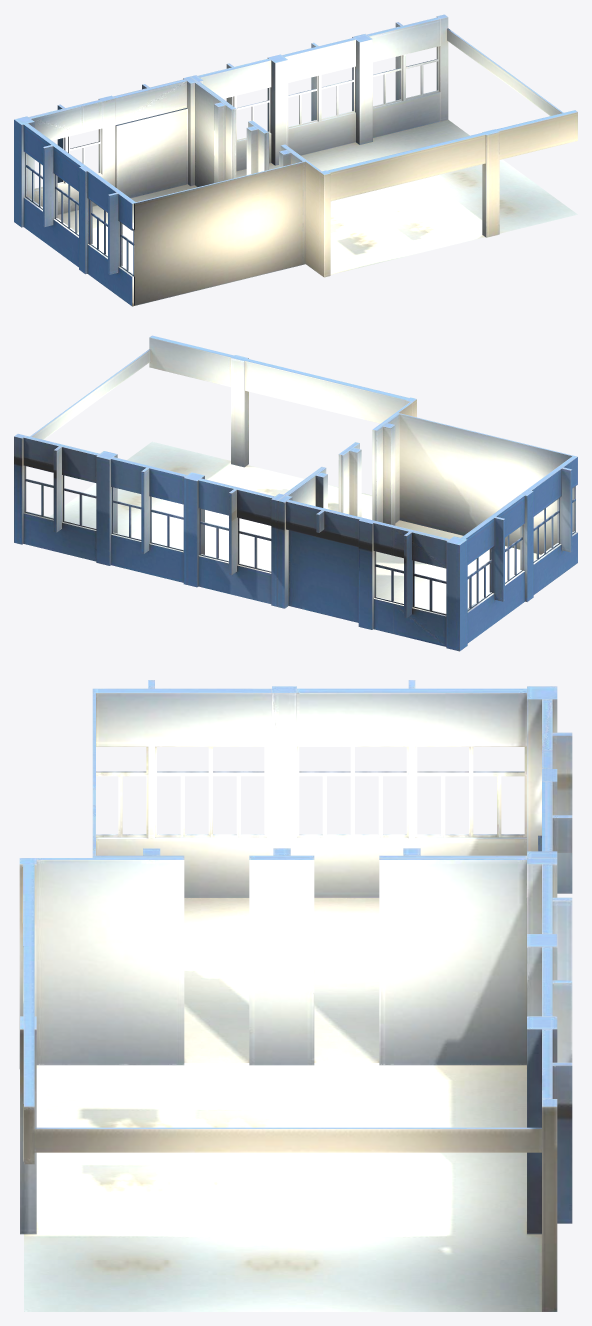
3 views of the same model, one above another, from view 1: azimuth 30°, elevation 25°; view 2: azimuth 150°, elevation 25°; view 3: azimuth 270°, elevation 25° (orthographic). The views are drawn at different scales.
Visible parts, largest first — view 1: hc_1floor_room012_1, hc_1floor_room013_2; view 2: hc_1floor_room013_2, hc_1floor_room012_1; view 3: hc_1floor_room012_1, hc_1floor_room013_2.
Boxes of the visible parts, x1=… form: hc_1floor_room012_1: x1=190, y1=14, x2=577, y2=277; hc_1floor_room013_2: x1=14, y1=76, x2=305, y2=306; hc_1floor_room013_2: x1=278, y1=413, x2=577, y2=651; hc_1floor_room012_1: x1=14, y1=335, x2=416, y2=606; hc_1floor_room012_1: x1=19, y1=858, x2=572, y2=1311; hc_1floor_room013_2: x1=92, y1=680, x2=572, y2=1062.
Bounding box in the file's own units: 2.33 × 0.5218 × 1.27.
Materials: 2 (2 with a texture image).
